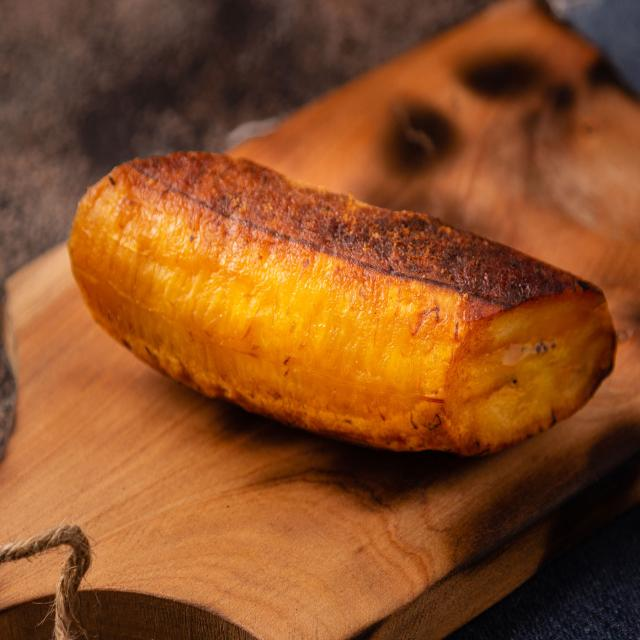platano: (58, 134, 624, 472)
